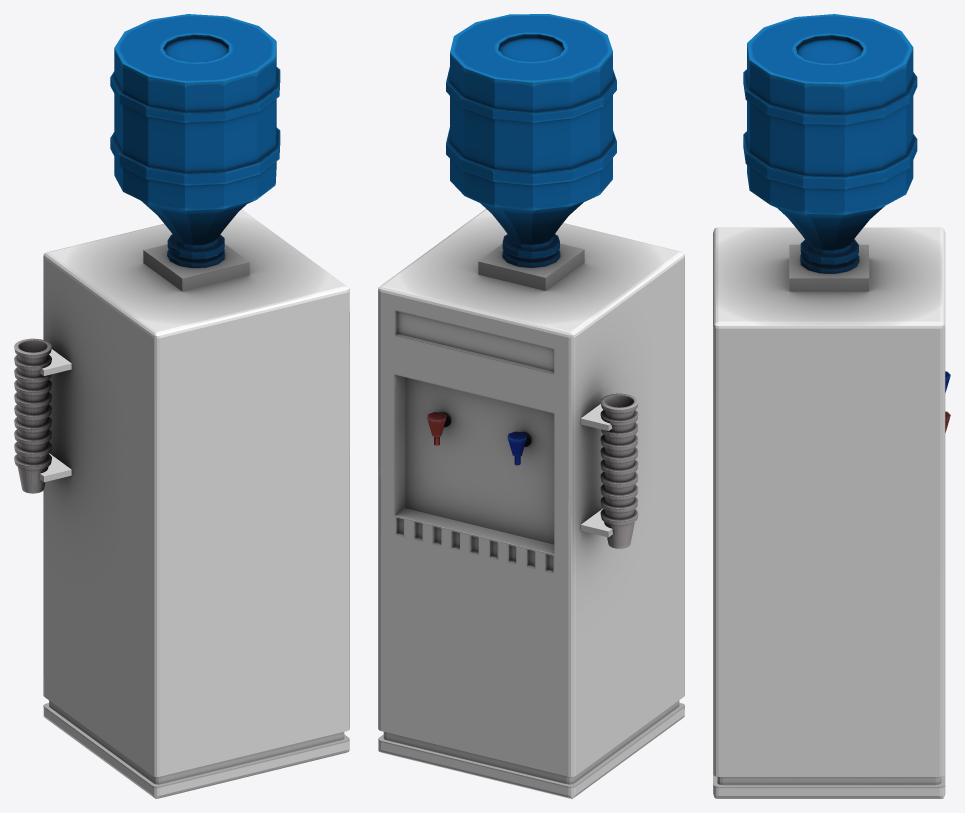
The model's file is WaterDispenser.fbx.
3 views of the same model, side by side, from view 1: azimuth 30°, elevation 25°; view 2: azimuth 150°, elevation 25°; view 3: azimuth 270°, elevation 25° (orthographic). The views are drawn at different scales.
Parts seen in each view (by area): view 1: Dispensador, Agua; view 2: Dispensador, Agua; view 3: Dispensador, Agua.
Part boxes in pixels (left/top/right/bottom): Dispensador: left=39, top=209, right=349, bottom=798; Agua: left=14, top=14, right=280, bottom=493; Dispensador: left=378, top=209, right=684, bottom=798; Agua: left=427, top=14, right=638, bottom=548; Dispensador: left=713, top=227, right=945, bottom=798; Agua: left=743, top=14, right=950, bottom=432.
Bounding box in the file's own units: 89.4 × 244 × 74.87.
3 materials, 2 textured.
